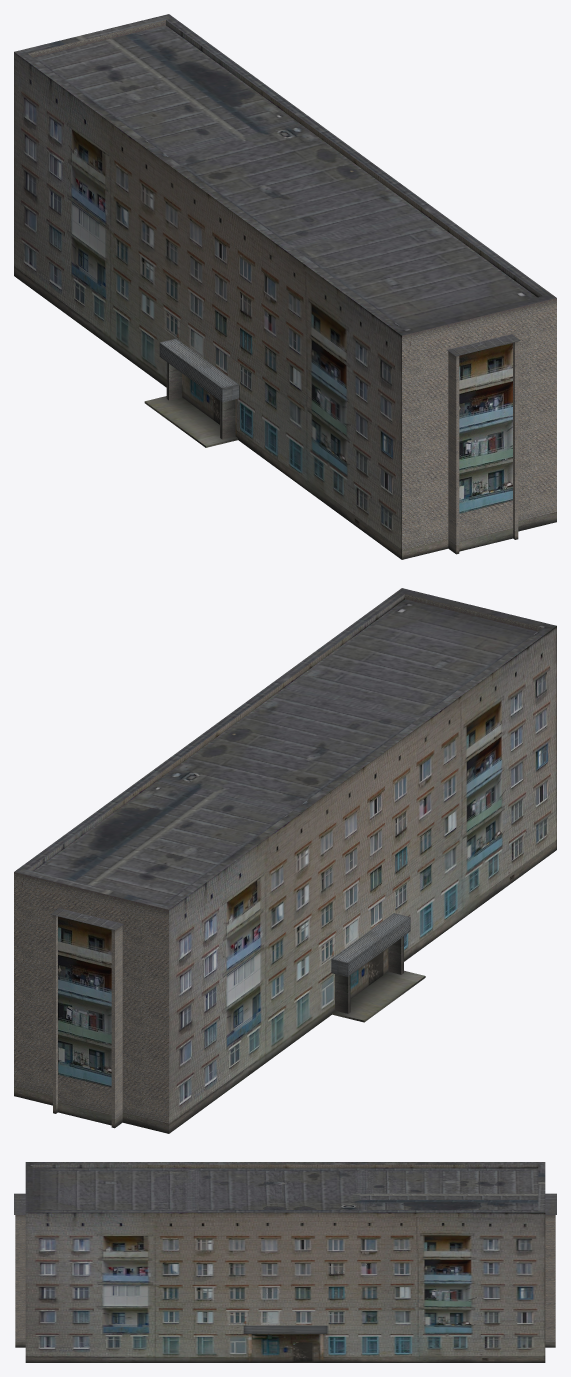
The model's file is r402_ishim_dom15.FBX.
3 renders of one model, top to bottom at view 1: azimuth 30°, elevation 25°; view 2: azimuth 150°, elevation 25°; view 3: azimuth 270°, elevation 25°, orthographic. The views are drawn at different scales.
Parts seen in each view (by area): view 1: r402_ishim_dom15; view 2: r402_ishim_dom15; view 3: r402_ishim_dom15.
Part boxes in pixels (bbox=[...]): r402_ishim_dom15: bbox=[14, 14, 556, 559]; r402_ishim_dom15: bbox=[14, 588, 556, 1133]; r402_ishim_dom15: bbox=[14, 1162, 556, 1362].
Size of the model in its own units: 1434 by 5371 by 1640.
